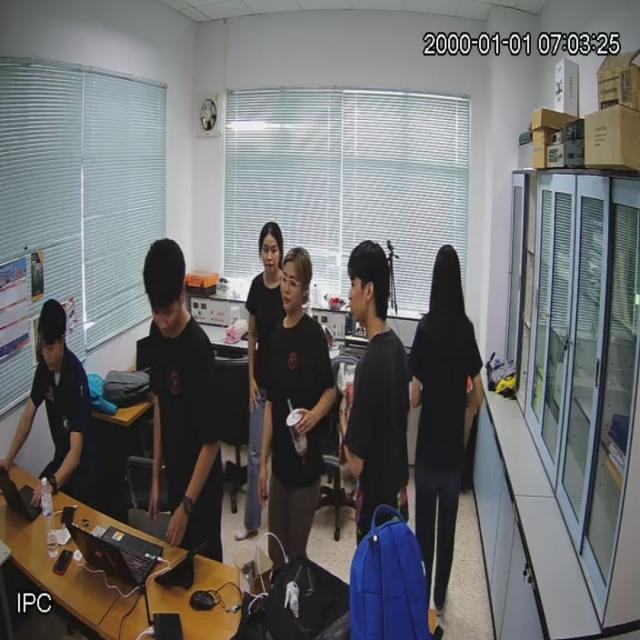normal: (144, 238, 228, 565), (414, 247, 483, 612), (258, 246, 328, 571), (7, 300, 98, 508), (342, 242, 408, 526), (245, 220, 281, 527)
